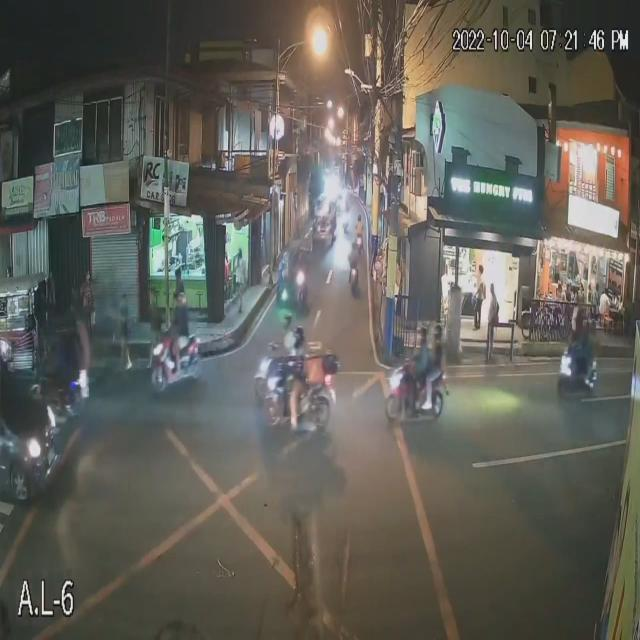Full-Faced: (292, 322, 308, 352), (174, 289, 188, 314), (414, 324, 428, 347), (280, 311, 294, 331), (430, 324, 444, 344)
